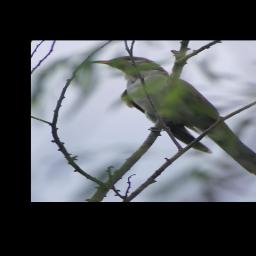Cuckoo: (92, 55, 256, 181)
